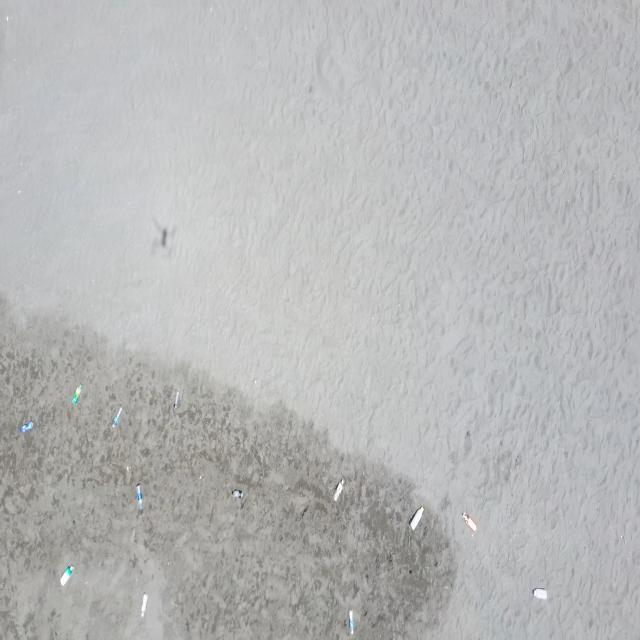plastic-bottle: (409, 506, 425, 530), (462, 510, 478, 533), (330, 478, 345, 502), (60, 564, 74, 587), (18, 419, 36, 435), (72, 382, 83, 406), (112, 405, 123, 428), (135, 484, 144, 512), (140, 592, 149, 619), (532, 587, 548, 601), (173, 388, 181, 414), (231, 488, 245, 501), (348, 608, 354, 637)
